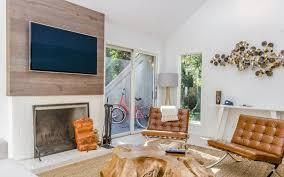TV: (26, 22, 99, 77)
chair: (212, 117, 284, 164), (142, 107, 185, 139)
door: (104, 48, 135, 132), (135, 55, 156, 134), (181, 47, 201, 123)
light: (157, 71, 182, 105)
table: (104, 139, 211, 177), (211, 103, 284, 141)
